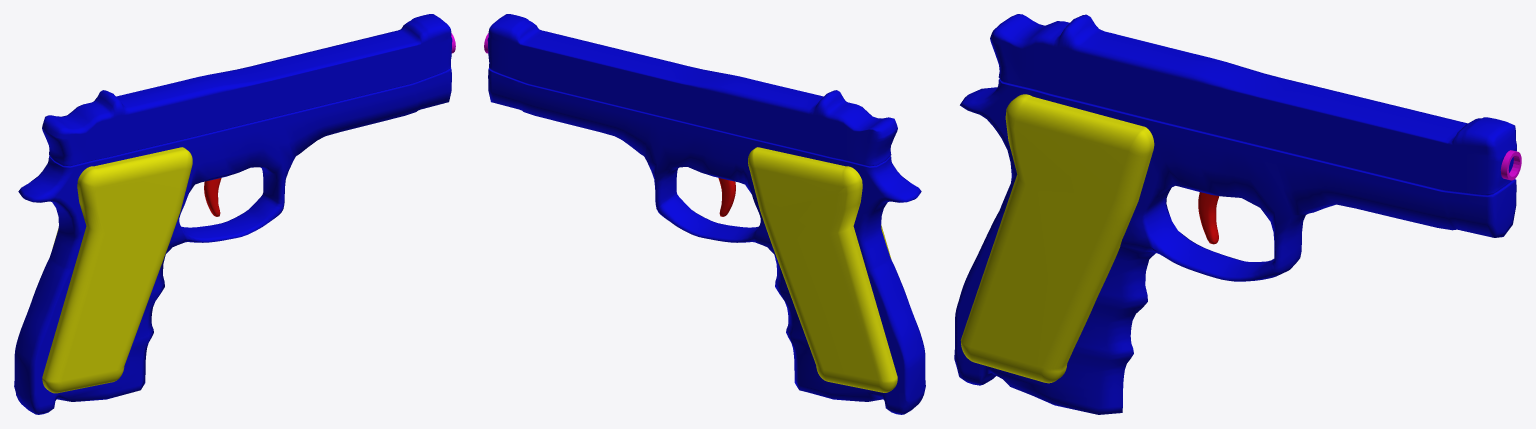
Rendered from Pistol.fbx.
3 renders of one model, left to right at view 1: azimuth 30°, elevation 25°; view 2: azimuth 150°, elevation 25°; view 3: azimuth 330°, elevation 25°, orthographic. The views are drawn at different scales.
Visible parts, largest first — view 1: Pistol; view 2: Pistol; view 3: Pistol.
Boxes of the visible parts, box(x1,y1,x2,y2) form: Pistol: box(14, 14, 455, 414); Pistol: box(484, 14, 925, 414); Pistol: box(954, 14, 1521, 414).
Size of the model in its own units: 5.98 by 4.01 by 0.8343.
